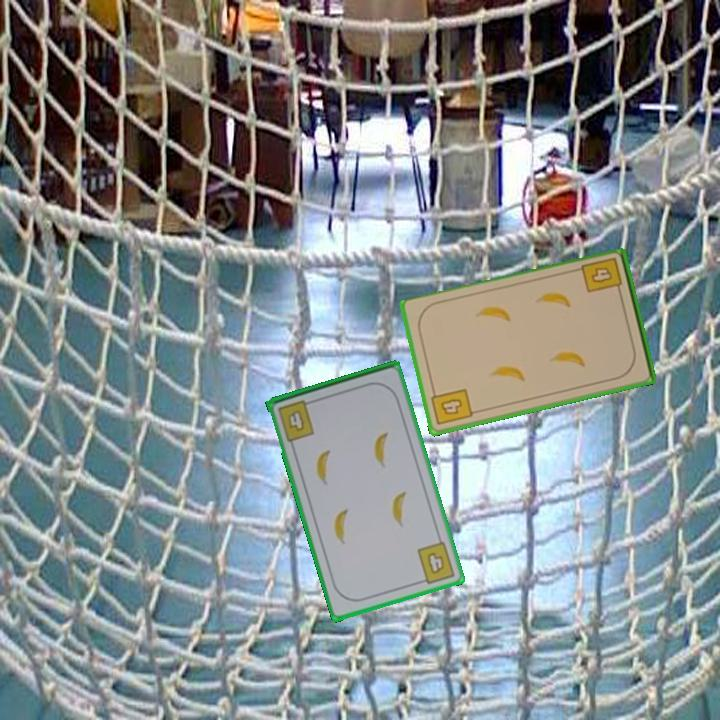4b: (414, 538, 458, 587), (578, 254, 625, 299), (274, 396, 318, 444), (428, 385, 475, 428)
